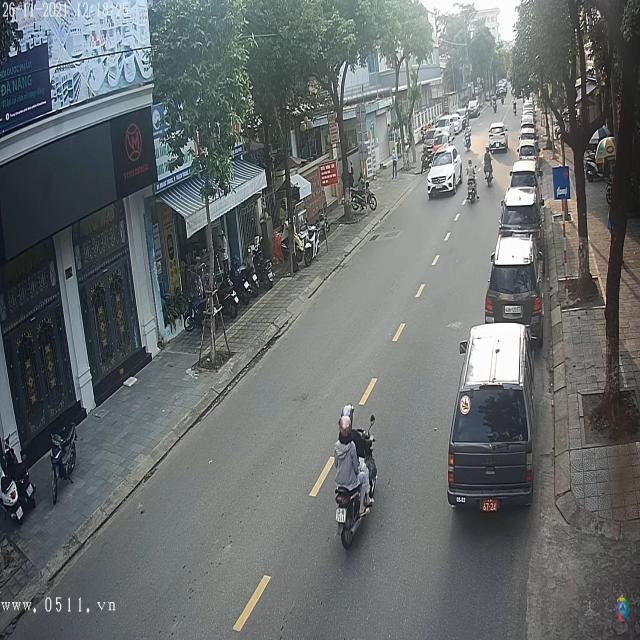car: (448, 325, 533, 511), (484, 233, 544, 329), (425, 146, 462, 198), (500, 192, 540, 238), (506, 160, 538, 199), (488, 125, 509, 151), (518, 143, 538, 163), (469, 98, 482, 116)
motorcycle: (333, 456, 378, 556), (465, 175, 480, 207), (484, 160, 494, 189)
